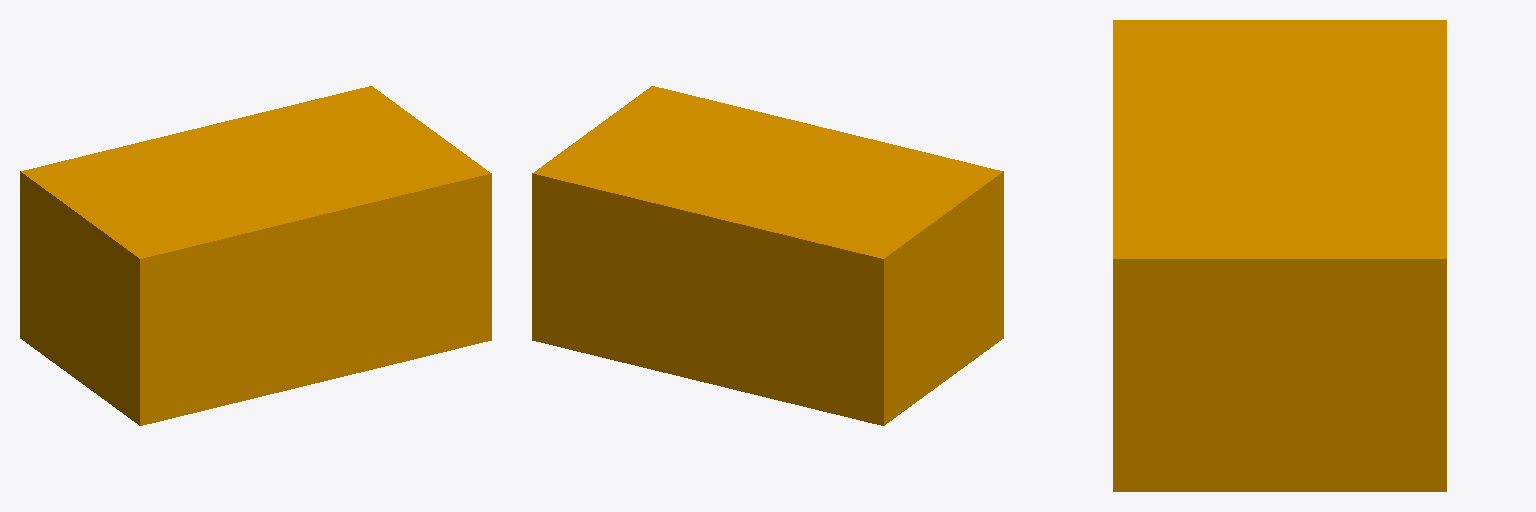
robot.urdf — 2x2:
<?xml version='1.0' encoding='UTF-8'?>
<robot name="2x2">
  <link name="base_link">
    <inertial>
      <origin xyz="0.0 0.0 0.0" rpy="0.0 0.0 0.0"/>
      <mass value="0.01"/>
      <inertia ixx="0.1" ixy="0.0" ixz="0.0" iyy="0.1" iyz="0.0" izz="0.1"/>
    </inertial>
    <visual>
      <geometry>
        <box size="0.044 0.026 0.02 "/>
      </geometry>
      <material name=""/>
      <origin xyz="0.0 0.0 0.0" rpy="0.0 0.0 0.0"/>
    </visual>
    <collision>
      <geometry>
        <box size="0.044 0.026 0.02 "/>
      </geometry>
      <origin xyz="0.0 0.0 0.0" rpy="0.0 0.0 0.0"/>
    </collision>
  </link>
  <material name="">
    <color rgba="0.516 0.508 0.29  1.   "/>
  </material>
  <contact>
    <lateral_friction value="1.0"/>
    <rolling_friction value="0.0"/>
    <contact_cfm value="0.0"/>
    <contact_erp value="1.0"/>
  </contact>
</robot>

--- What the picture shows (computed from the rendered views, not written in the file) ---
The picture shows the robot from 3 angles, left to right: view 1: azimuth 30°, elevation 25°; view 2: azimuth 150°, elevation 25°; view 3: azimuth 270°, elevation 25°; orthographic projection.
Robot: 2x2 — 1 links, 0 joints (none); root link base_link; default pose: all joints at 0.
Visible links, largest first — view 1: base_link; view 2: base_link; view 3: base_link.
Boxes of the visible links, bbox=[...] form: base_link: bbox=[20, 86, 491, 425]; base_link: bbox=[532, 86, 1003, 425]; base_link: bbox=[1113, 20, 1446, 491].
Bounding box of the posed robot: 0.044 × 0.026 × 0.02 m (x, y, z).
Geometry: primitives only (box / cylinder / sphere), no mesh files.